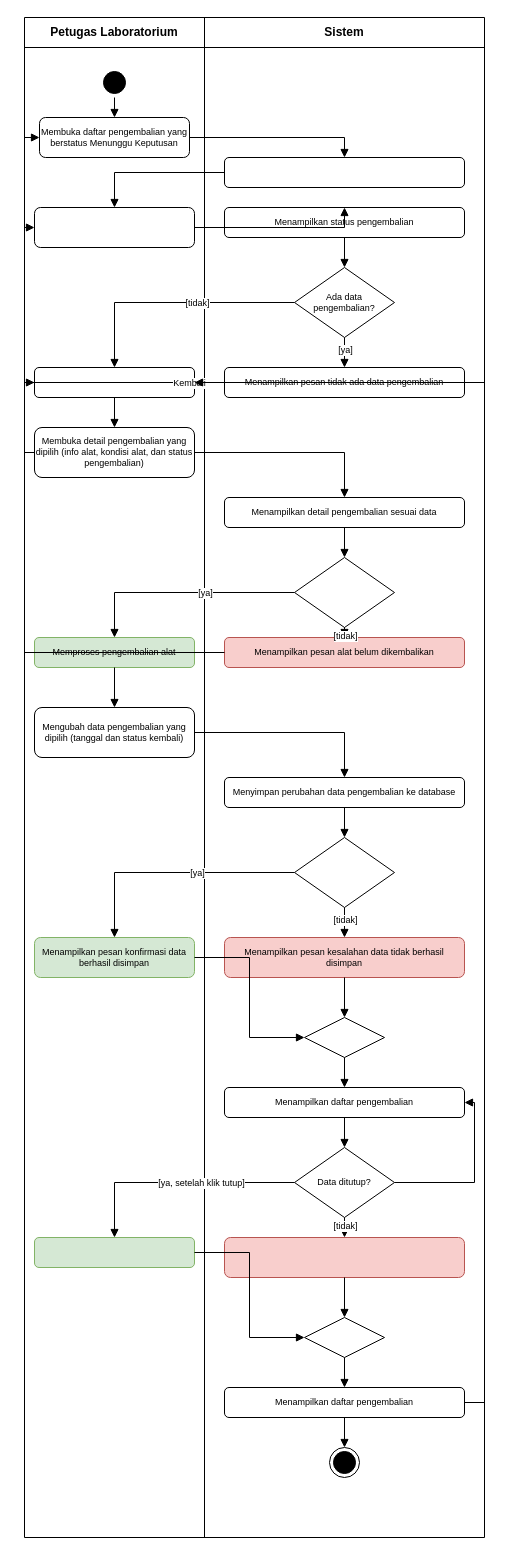
Some shapes in this 510 by 1556 pixel diagram are drawn without their labels. The shapes that lost their labels are listed below. From the top down, each one's centre as x and y in pixels, then its label:
At point (344, 172): "Menampilkan data dari aplikasi".
At point (114, 227): "Menarik data pengembalian (kondisi alat, status) dari aplikasi".
At point (114, 382): "Memilih data pengembalian".
At point (344, 592): "Alat dikembalikan?".
At point (344, 872): "Data berhasil disimpan?".
At point (114, 1252): "Menutup halaman detail".
At point (344, 1257): "Menampilkan pesan kesalahan data tidak berhasil ditutup".
